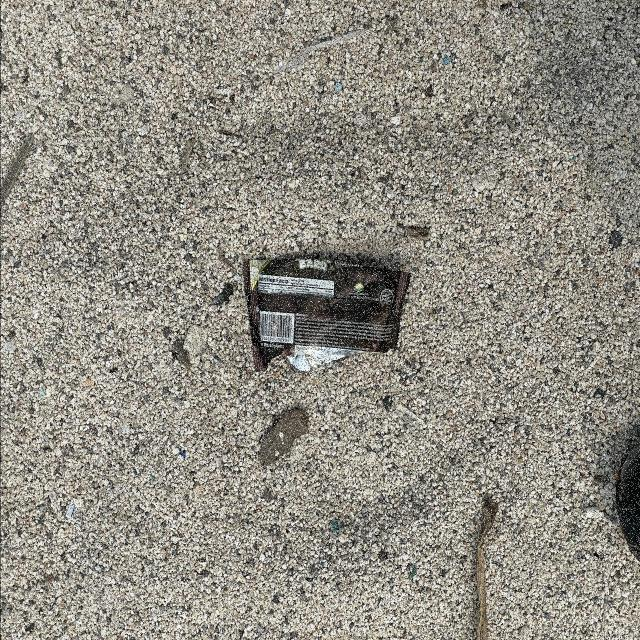plastic_waste: (242, 256, 413, 375)
